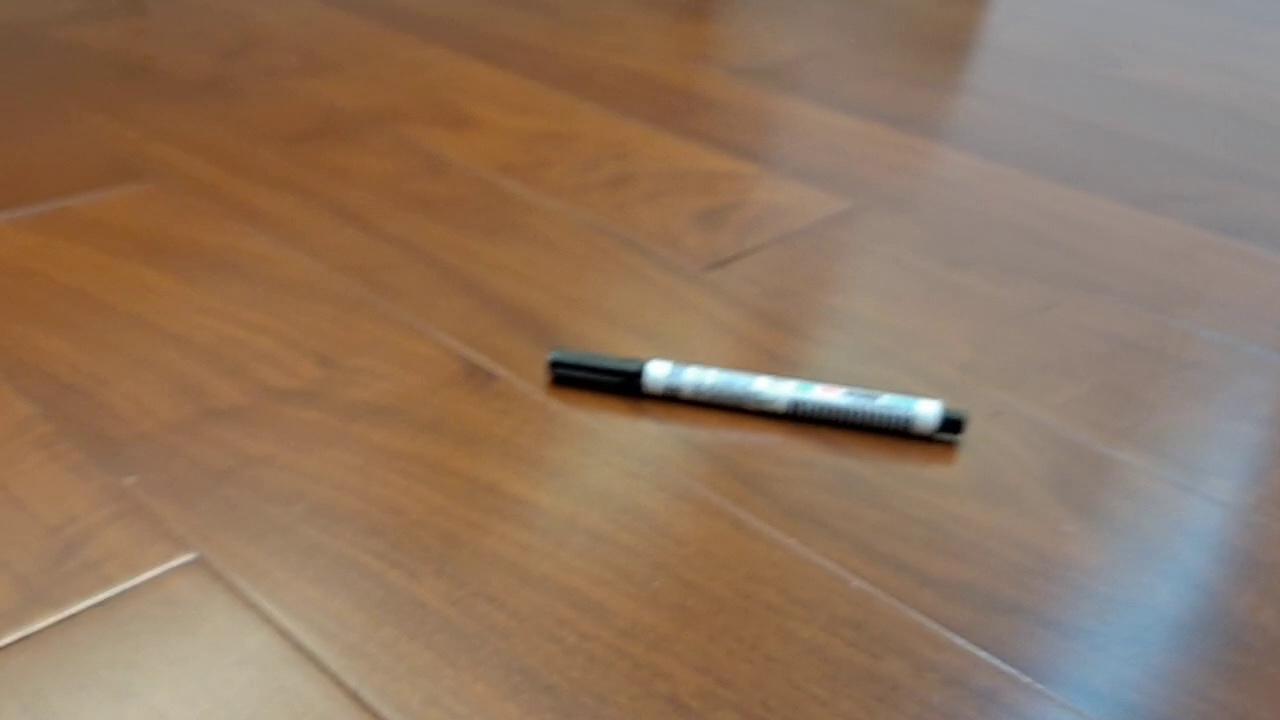pen: (544, 348, 967, 438)
